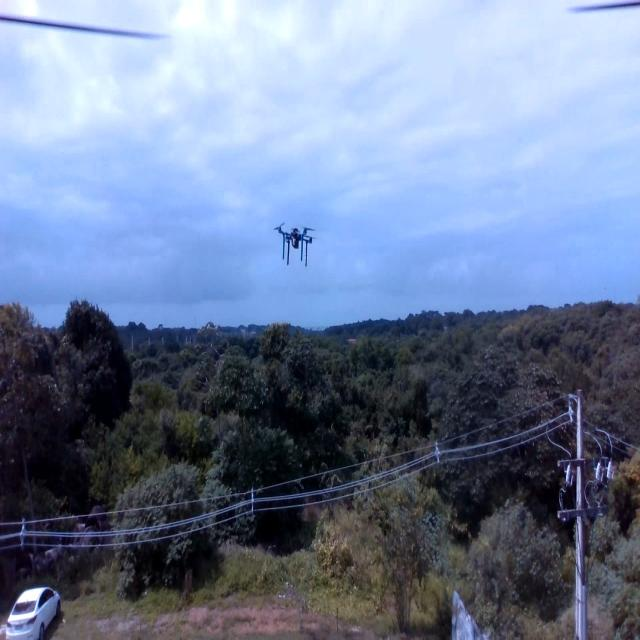-uav-: (268, 208, 317, 274)
